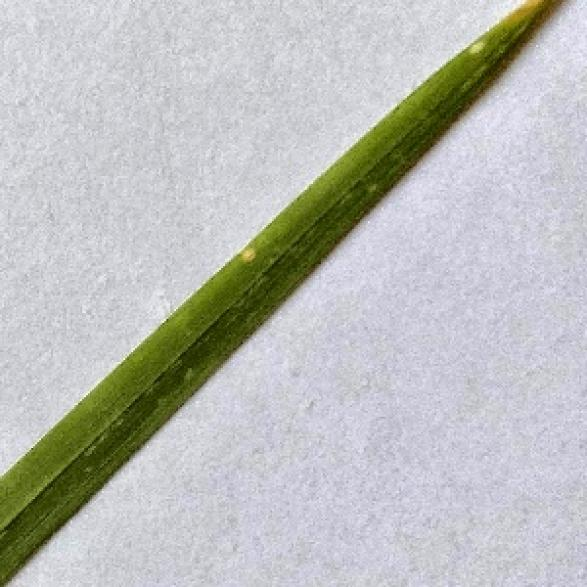Leaf_smut: (233, 231, 266, 270)
